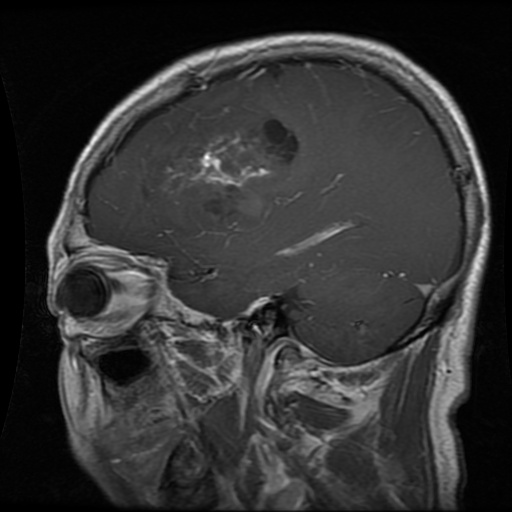glioma: (156, 115, 301, 214)
